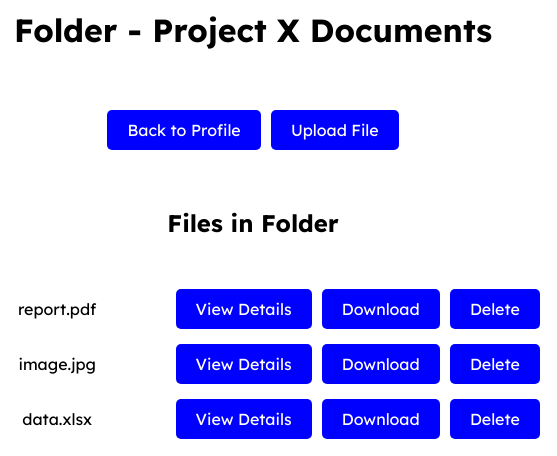
FolderDetails › should correctly delete a file from the list on successful API response
Check: the text "report.pdf" is shown, box [18, 299, 96, 319]
Check: the text "image.jpg" is shown, box [18, 354, 96, 374]
Click the button "Delete" in the row of "image.jpg" at (495, 364), box [450, 344, 540, 384]
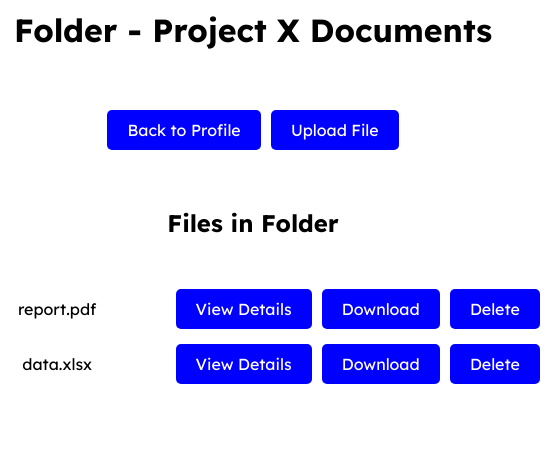
Check: the text "image.jpg" is gone
